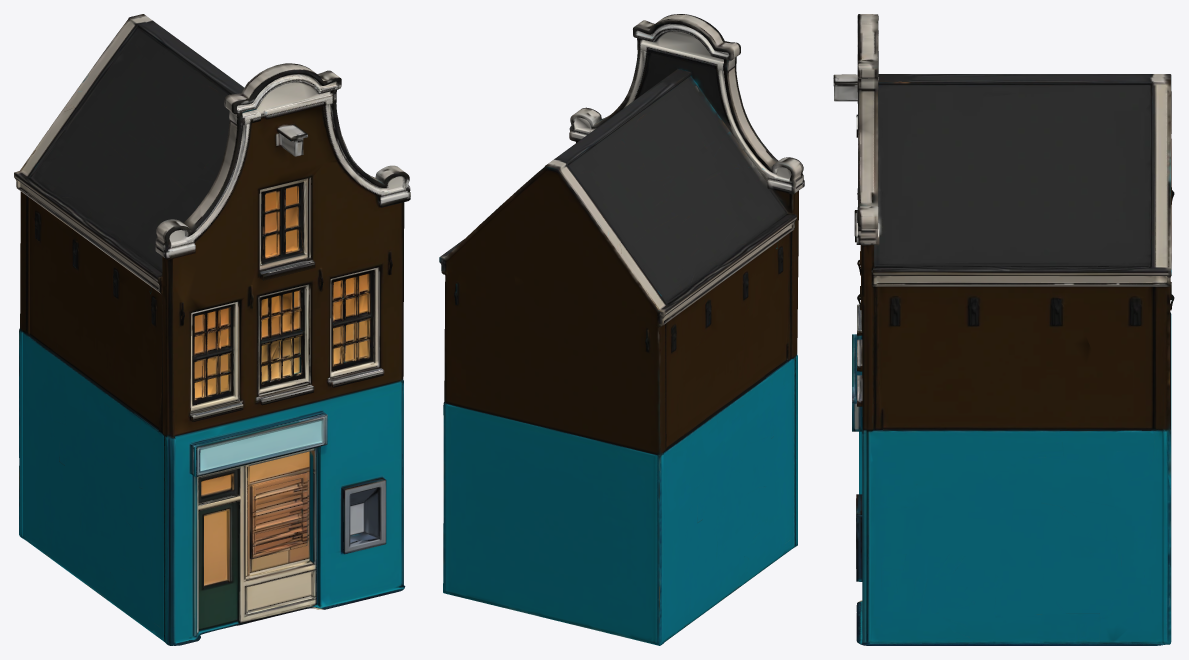
Rendered from return_market_0.glb.
The picture shows the model from 3 angles, left to right: view 1: azimuth 30°, elevation 25°; view 2: azimuth 150°, elevation 25°; view 3: azimuth 270°, elevation 25°; orthographic projection. The views are drawn at different scales.
Visible parts, largest first — view 1: node_0; view 2: node_0; view 3: node_0.
Boxes of the visible parts, x1,y1,x2,y2 form: node_0: (14,14,410,645); node_0: (439,14,804,645); node_0: (833,14,1174,645).
Bounding box in the file's own units: 0.4622 × 0.984 × 0.5388.
1 material, 1 textured.
